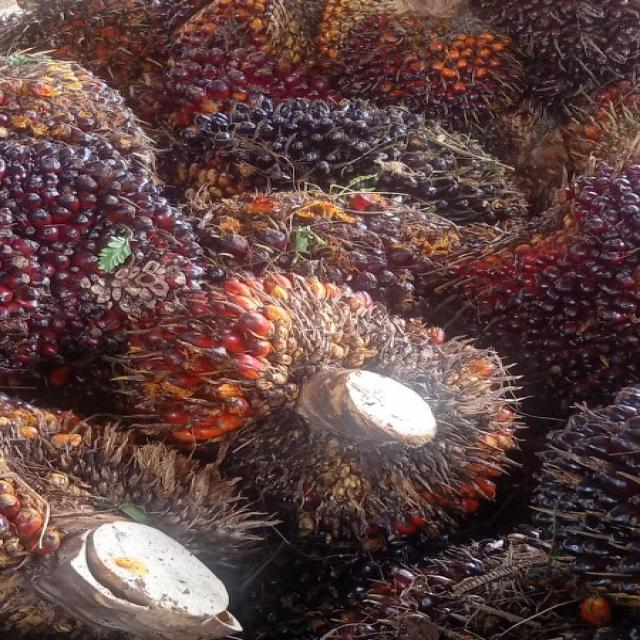fraksi 1: (116, 237, 563, 618)
